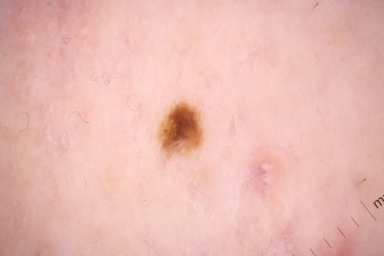melanoma: (158, 105, 204, 152)
